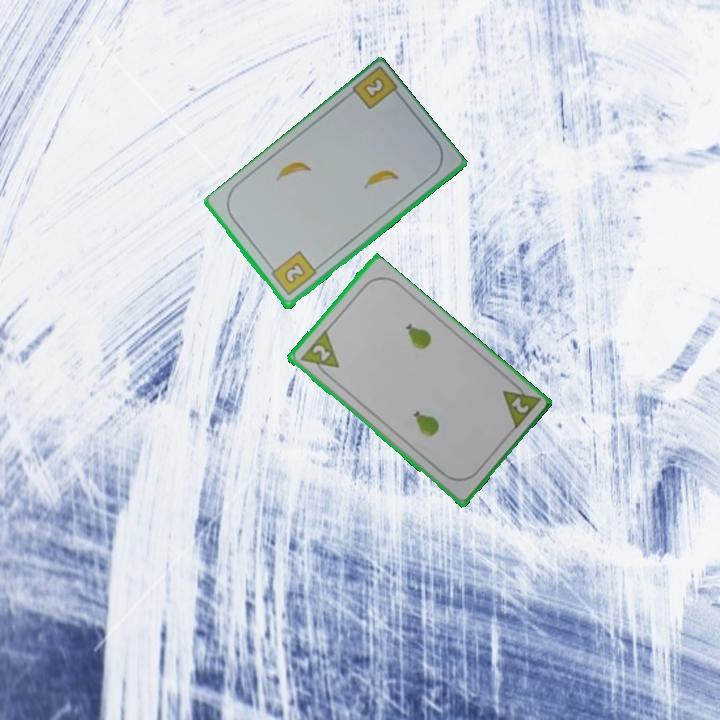2b: (266, 248, 319, 299), (359, 74, 388, 102)
2p: (498, 376, 542, 433), (295, 328, 342, 381)
